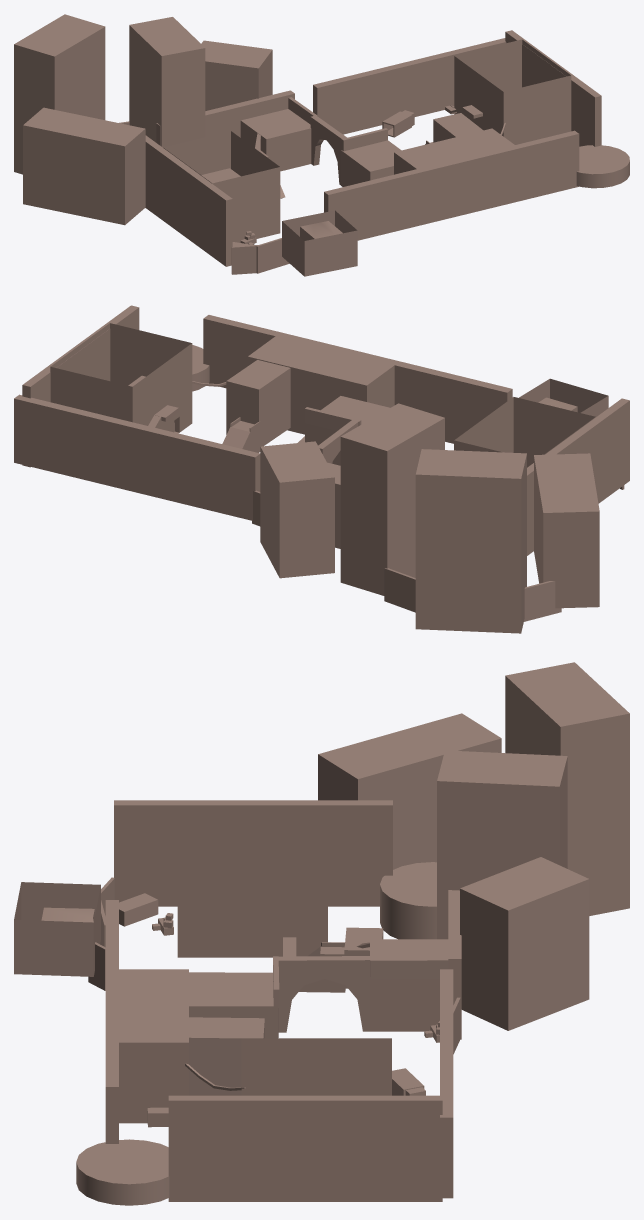
Rendered from lvlBlocking001.fbx.
The picture shows the model from 3 angles, top to bottom: view 1: azimuth 30°, elevation 25°; view 2: azimuth 150°, elevation 25°; view 3: azimuth 270°, elevation 25°; orthographic projection. The views are drawn at different scales.
Visible parts, largest first — view 1: map_edgeSouth, pCube41, pCube42, pCube39, house_room_normalSide, map_edgeNorthR, house_room_1, map_edgeWest, pCube4 (×2), garage_room, pCube40, map_eddeOst (+9 smaller); view 2: pCube42, map_edgeNorthR, pCube39, house_room_normalSide, pCube40, pCube41, map_edgeSouth, houseSouth, house_room_1, map_edgeWest, pCube2, map_eddeOst (+8 smaller); view 3: map_eddeOst, house_room_1, pCube40, pCube42, pCube39, map_edgeWest, pCube41, houseSouth, pCube4 (×2), house_room_normalSide, garage_room, normalbase (+10 smaller).
Boxes of the visible parts, x1,y1,x2,y2 form: map_edgeSouth: (324,130,579,240); pCube41: (23,107,145,225); pCube42: (14,14,105,174); pCube39: (129,17,205,147); house_room_normalSide: (454,39,571,144); map_edgeNorthR: (313,38,506,134); house_room_1: (163,131,280,242); map_edgeWest: (145,135,232,266); pCube4 (×2): (240,109,401,186); garage_room: (282,210,357,276); pCube40: (201,40,272,110); map_eddeOst: (505,30,601,146); pCube42: (415,449,526,633); map_edgeNorthR: (14,394,260,520); pCube39: (340,403,444,595); house_room_normalSide: (50,323,192,433); pCube40: (260,441,334,578); pCube41: (534,453,599,608); map_edgeSouth: (203,315,512,443); houseSouth: (247,336,394,434); house_room_1: (454,397,595,467); map_edgeWest: (527,398,629,555); pCube2: (226,360,290,446); map_eddeOst: (22,305,139,467); map_eddeOst: (168,1095,442,1201); house_room_1: (177,805,327,957); pCube40: (460,857,589,1030); pCube42: (505,662,629,915); pCube39: (437,750,567,939); map_edgeWest: (114,800,392,906); pCube41: (318,713,501,869); houseSouth: (118,969,188,1123); pCube4 (×2): (189,939,448,1038); house_room_normalSide: (241,1038,391,1095); garage_room: (14,882,100,976); normalbase: (76,1139,169,1205).
Bounding box in the file's own units: 175 × 46.03 × 124.
